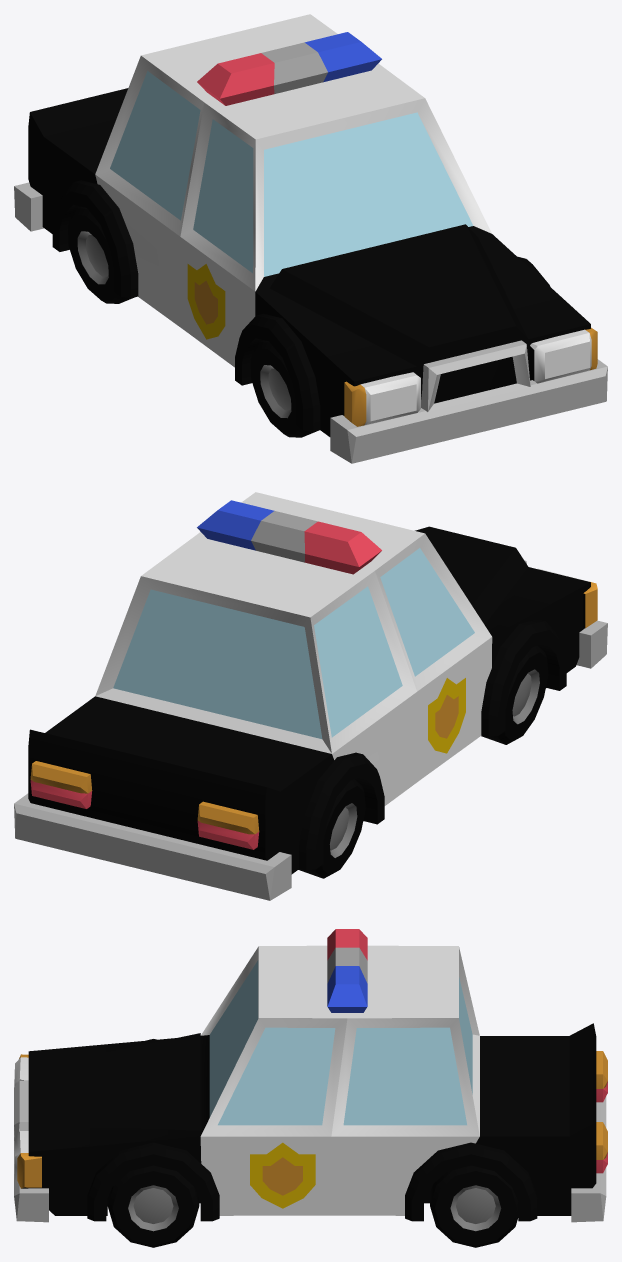
The model's file is carro.fbx.
3 renders of one model, top to bottom at view 1: azimuth 30°, elevation 25°; view 2: azimuth 150°, elevation 25°; view 3: azimuth 270°, elevation 25°, orthographic. The views are drawn at different scales.
Visible parts, largest first — view 1: car_police.001, car_police_wheel_front_left.002, car_police_wheel_front_left.003; view 2: car_police.001, car_police_wheel_front_left.003, car_police_wheel_front_left.002; view 3: car_police.001, car_police_wheel_front_left.001, car_police_wheel_front_left.
Boxes of the visible parts, x1,y1,x2,y2 form: car_police.001: [14, 14, 607, 463]; car_police_wheel_front_left.002: [68, 206, 133, 303]; car_police_wheel_front_left.003: [250, 340, 318, 437]; car_police.001: [14, 492, 607, 900]; car_police_wheel_front_left.003: [481, 645, 548, 744]; car_police_wheel_front_left.002: [298, 779, 365, 878]; car_police.001: [14, 929, 607, 1222]; car_police_wheel_front_left.001: [107, 1165, 199, 1247]; car_police_wheel_front_left: [430, 1165, 518, 1247].
Bounding box in the file's own units: 41.93 × 41.47 × 93.81.
